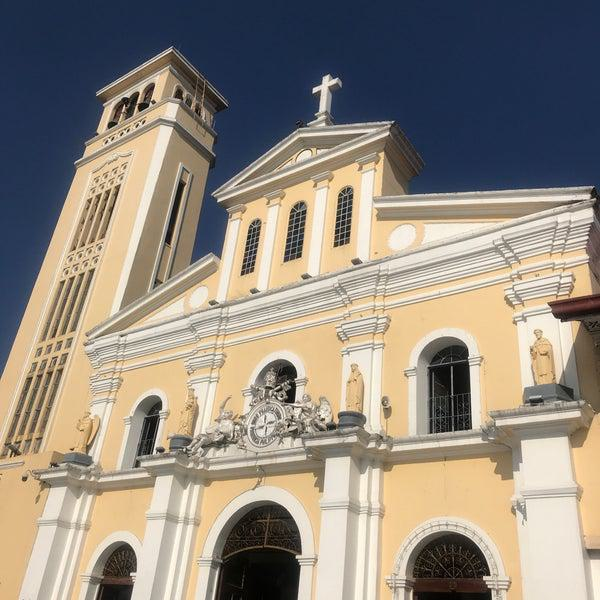manaoag_church_manaoag_pangasinan: (3, 37, 600, 600)
